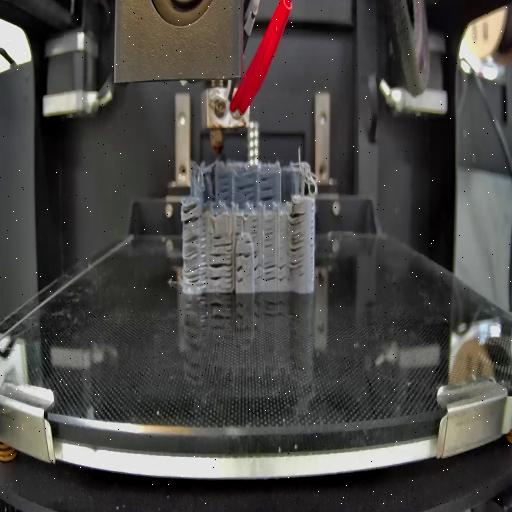cracks: (184, 237, 208, 289), (288, 209, 306, 271), (209, 252, 232, 290), (182, 200, 202, 230), (238, 176, 258, 203), (265, 262, 287, 286), (212, 232, 234, 250), (261, 173, 275, 201), (218, 173, 232, 200), (264, 220, 276, 251), (254, 248, 262, 283), (234, 212, 244, 236), (236, 264, 244, 286), (250, 217, 258, 239), (236, 252, 252, 260), (241, 238, 253, 246)
